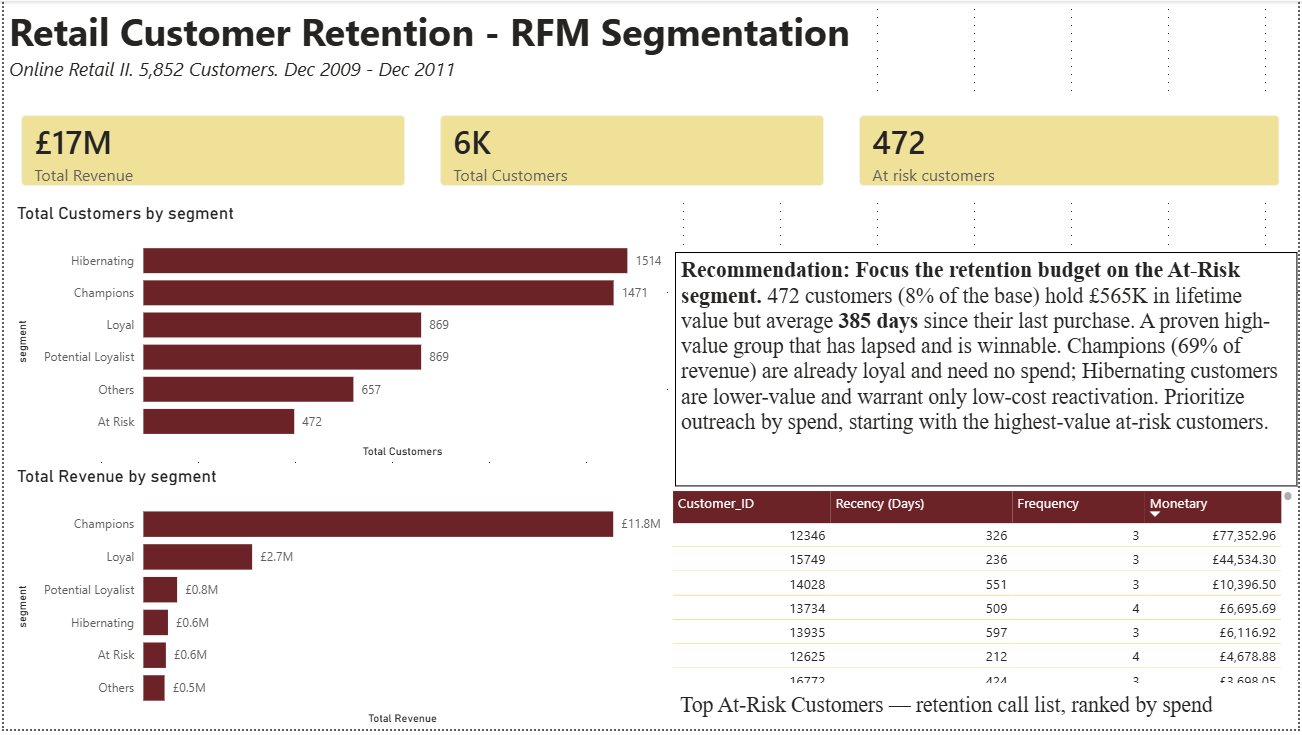

Layout of this report page (visuals, bound fields, positions):
{"tool":"powerbi","page":{"name":"Page 1","canvas":[1280,720],"ordinal":0},"visuals":[{"type":"cardVisual","fields":{"Data":["public customer_rfm.Total Revenue"]},"box":[0,96,414.6,104],"z":0},{"type":"tableEx","fields":{"Values":["public customer_rfm.customer_id","public customer_rfm.recency","public customer_rfm.frequency","public customer_rfm.monetary"]},"box":[656,480,624,200],"z":1000},{"type":"cardVisual","fields":{"Data":["public customer_rfm.Total Customers"]},"box":[414.6,96,414.6,104],"z":2000},{"type":"cardVisual","fields":{"Data":["public customer_rfm.At risk customers"]},"box":[829.3,96,450.7,104],"z":3000},{"type":"textbox","box":[0,0,856,96],"z":4000},{"type":"textbox","box":[664,248,616,232],"z":5000},{"type":"clusteredBarChart","fields":{"Category":["public customer_rfm.segment"],"Y":["public customer_rfm.Total Customers"]},"box":[8,200,648,256],"z":6000},{"type":"clusteredBarChart","fields":{"Category":["public customer_rfm.segment"],"Y":["public customer_rfm.Total Revenue"]},"box":[8,460,648,260],"z":7000},{"type":"textbox","box":[664,680,616,40],"z":8000}]}

Visuals, with their boxes in screenshot pixels (x1, y1, x2, y2), scaled from the page's 1280x720 canvas onto the 1302x735 screenshot:
cardVisual - public customer_rfm.Total Revenue: region(0, 98, 422, 204)
tableEx - public customer_rfm.customer_id x public customer_rfm.recency: region(667, 490, 1301, 694)
cardVisual - public customer_rfm.Total Customers: region(422, 98, 843, 204)
cardVisual - public customer_rfm.At risk customers: region(844, 98, 1301, 204)
textbox: region(0, 0, 871, 98)
textbox: region(675, 253, 1301, 490)
clusteredBarChart - public customer_rfm.segment x public customer_rfm.Total Customers: region(8, 204, 667, 465)
clusteredBarChart - public customer_rfm.segment x public customer_rfm.Total Revenue: region(8, 470, 667, 734)
textbox: region(675, 694, 1301, 734)
